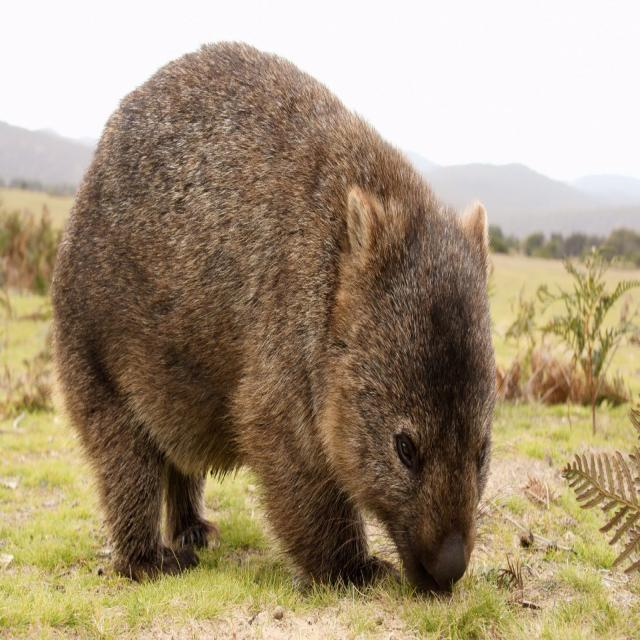Wombat: (47, 31, 501, 591)
